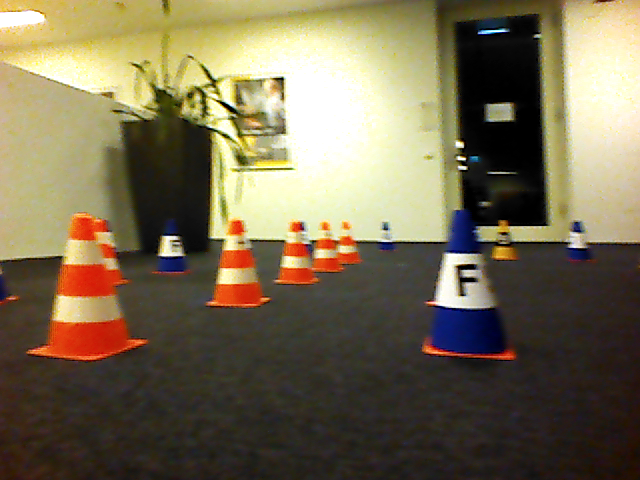bluecone: (424, 208, 520, 362)
orangeconesmall: (207, 219, 270, 309), (274, 221, 316, 287)
